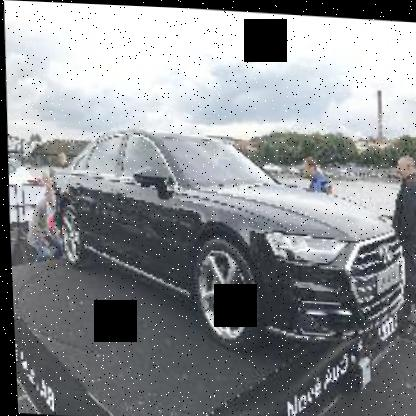not_emergency: (46, 113, 402, 368)
